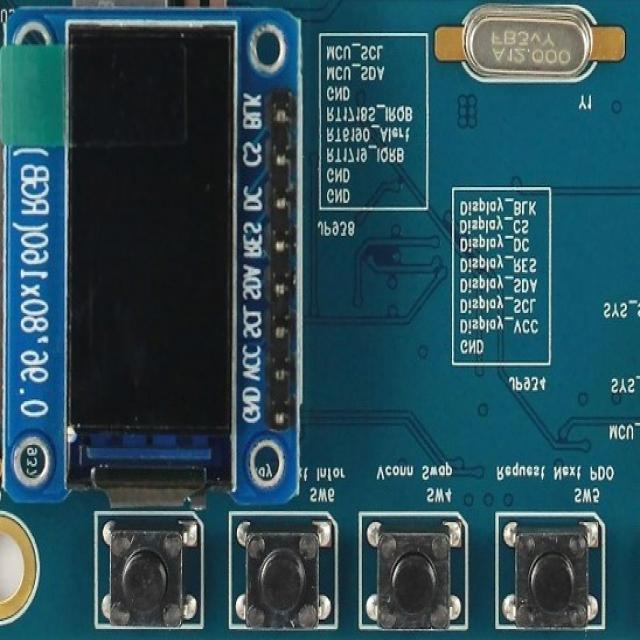2235: (499, 520, 592, 635), (104, 522, 192, 627), (367, 530, 457, 628), (236, 531, 323, 631)
clock Q1: (447, 9, 606, 90)
connector -5v-: (264, 92, 298, 441)
display P5: (63, 20, 243, 429)
